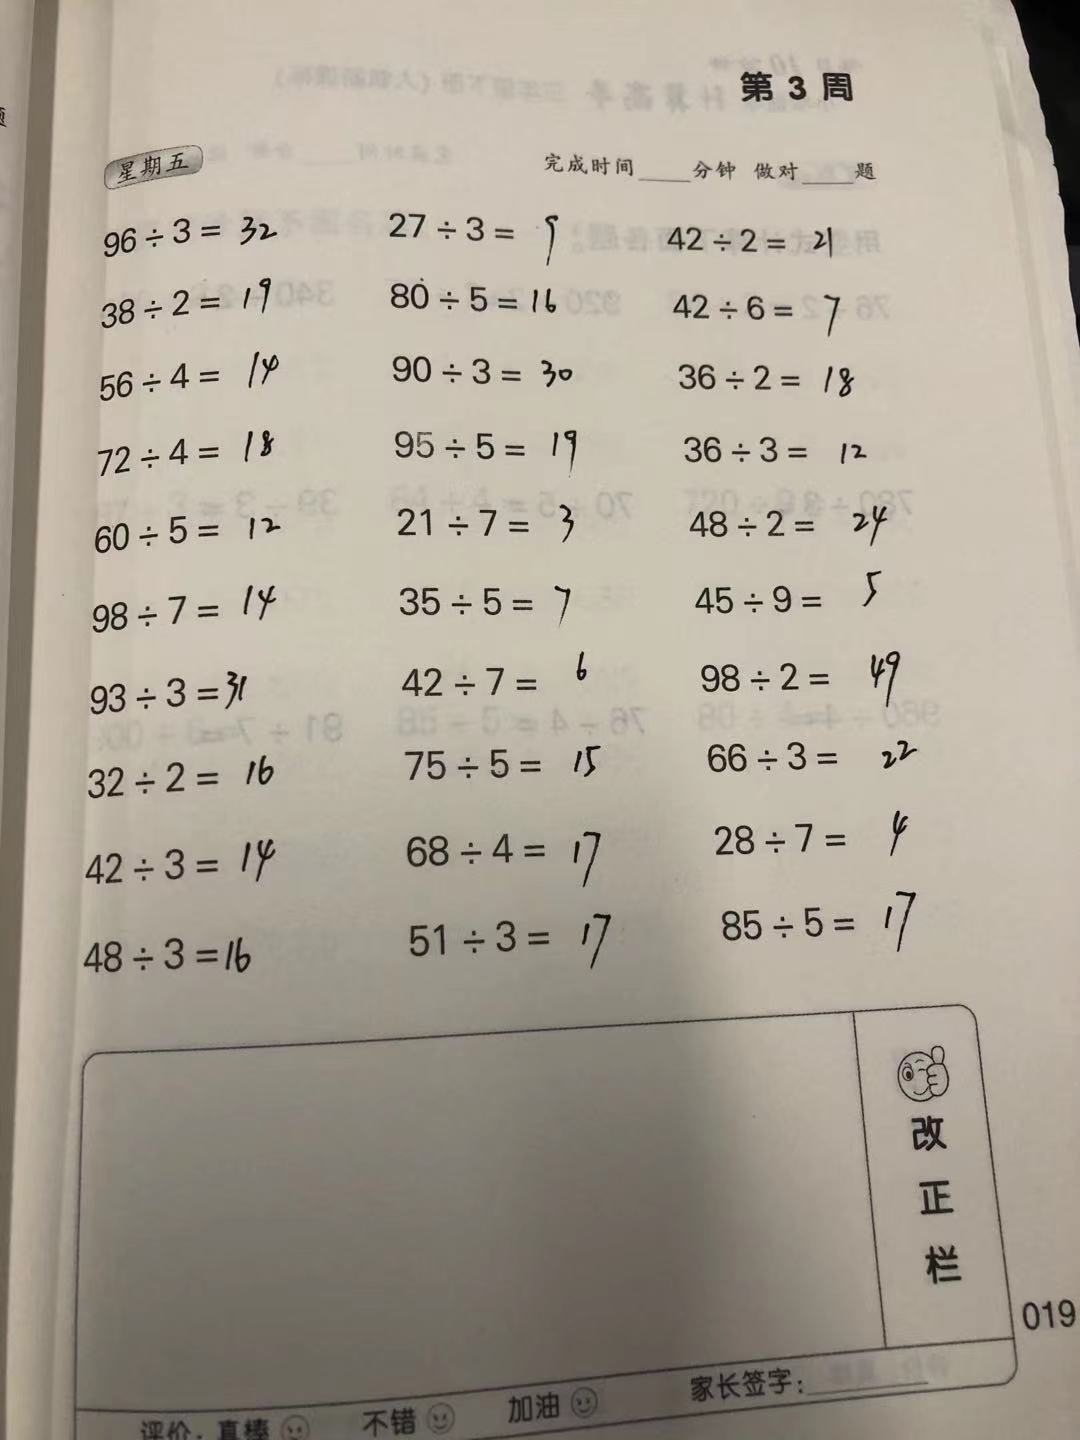equation: (706, 886, 977, 963), (81, 909, 299, 999), (398, 907, 634, 989), (657, 341, 897, 421), (73, 737, 303, 818), (685, 726, 964, 791), (389, 815, 630, 891), (73, 833, 322, 906), (393, 723, 627, 798), (369, 190, 613, 260), (383, 497, 607, 568), (391, 641, 609, 713), (698, 633, 919, 704), (75, 643, 260, 726), (69, 349, 324, 408), (658, 200, 870, 269), (697, 806, 934, 867), (77, 427, 301, 489), (678, 495, 923, 550), (376, 272, 606, 328), (70, 203, 299, 259), (81, 272, 294, 331), (680, 567, 914, 618), (376, 422, 596, 476), (658, 280, 860, 338), (74, 575, 296, 626), (84, 502, 296, 556), (382, 582, 596, 634), (377, 348, 583, 395), (672, 438, 894, 477)
